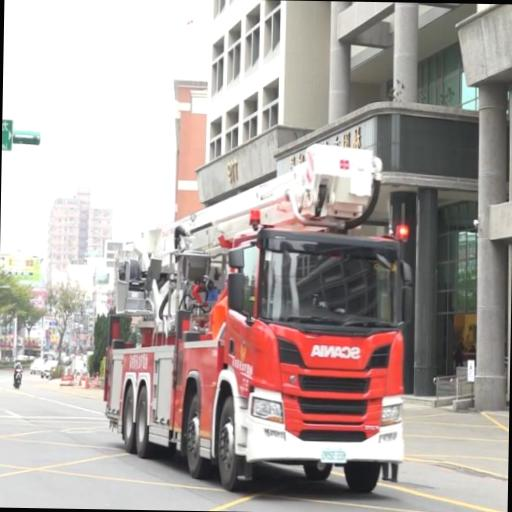fire truck: (105, 144, 412, 491)
